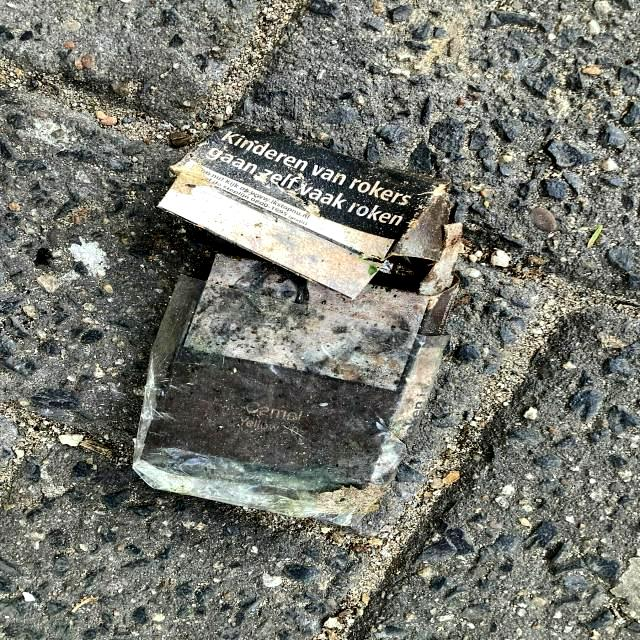Paper: (124, 122, 468, 532)
